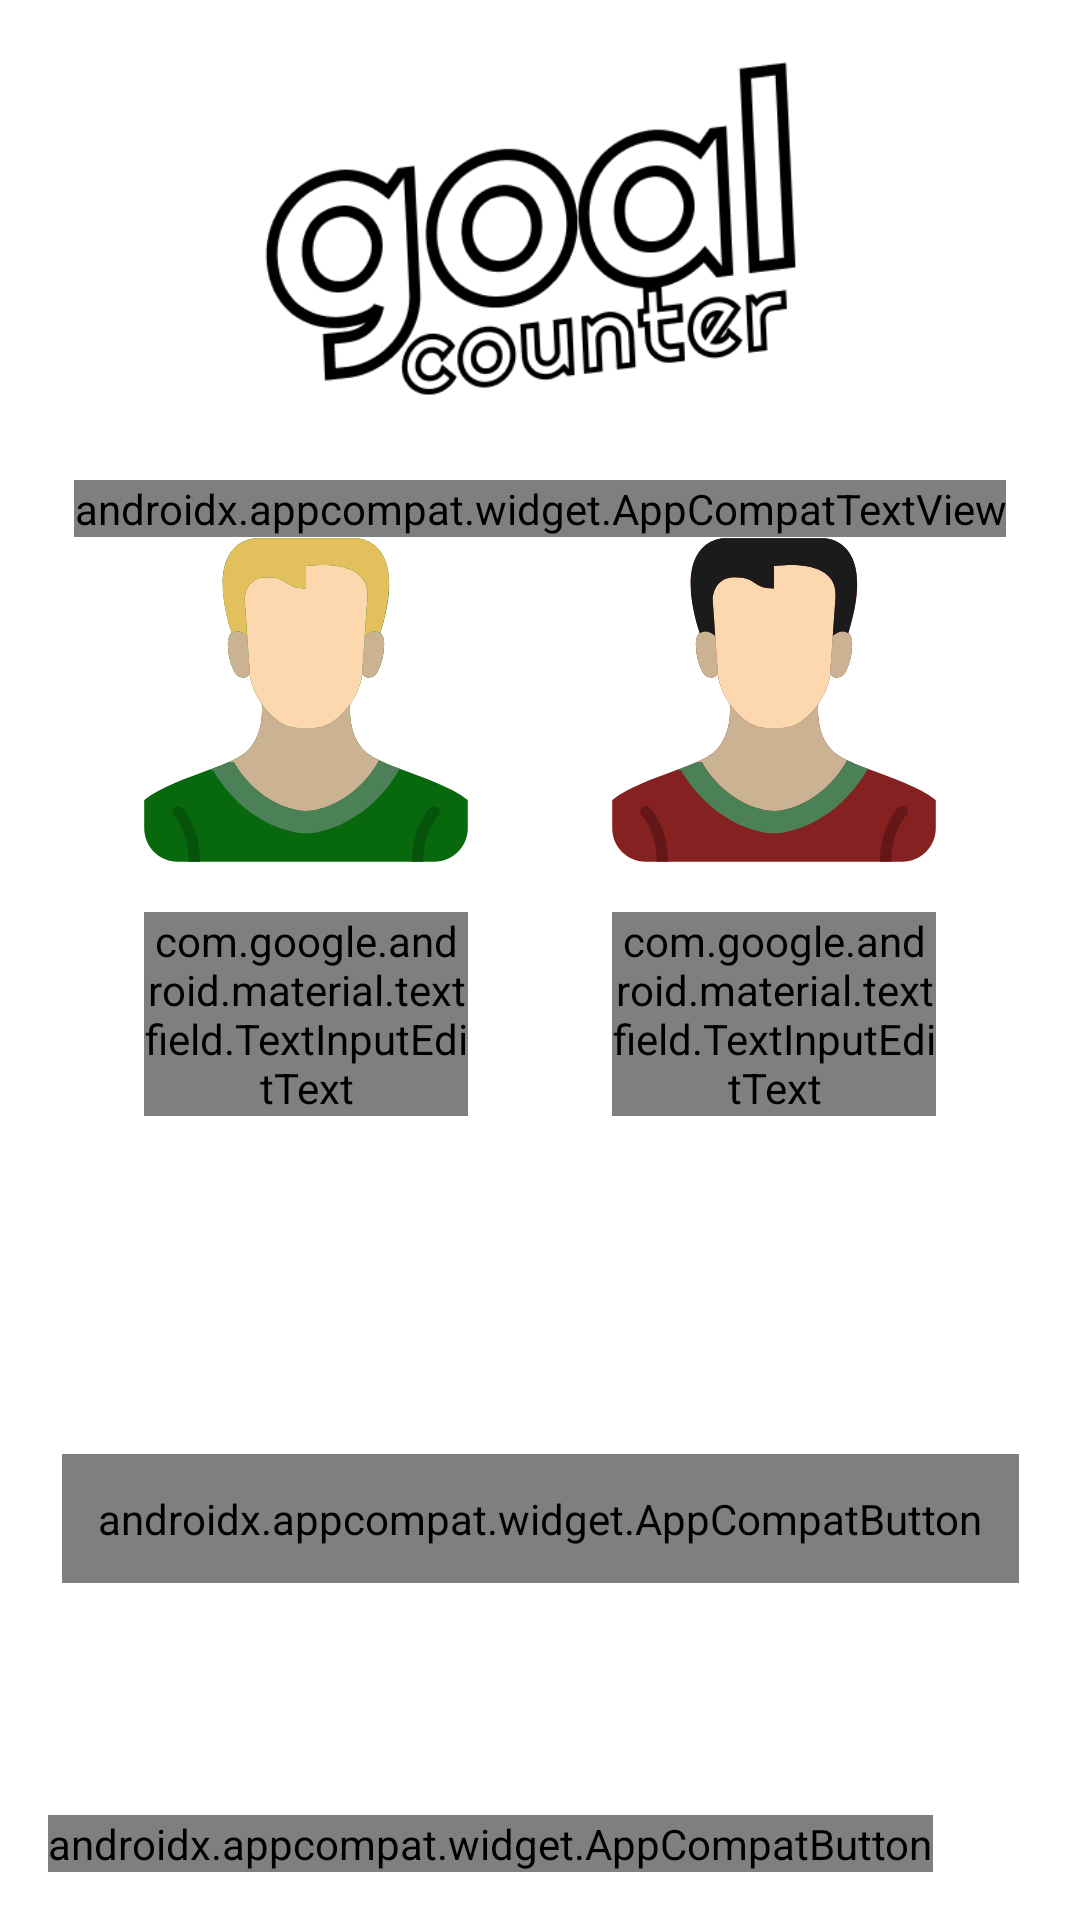

Named icons in this screenshot (1080px×1920px) and their centers, point (x, y):
playerl: point (774, 700)
playerw: point (306, 700)
